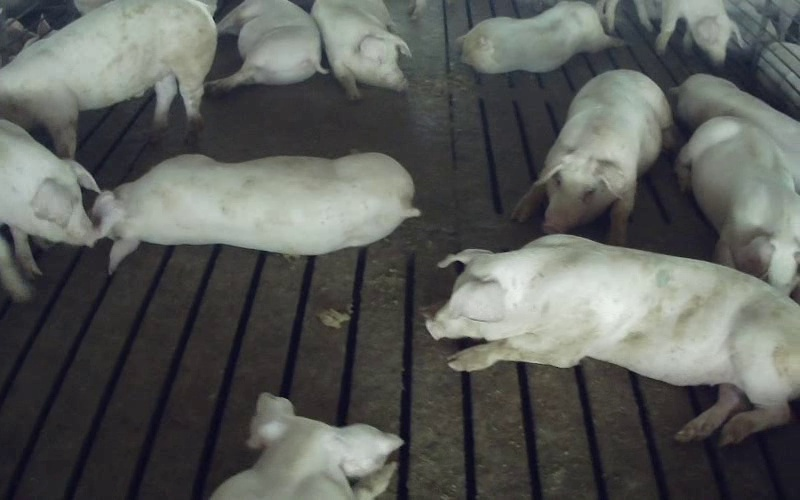pig: (427, 235, 799, 445), (93, 153, 419, 272), (512, 70, 672, 244), (676, 116, 799, 294), (210, 393, 402, 499), (672, 74, 799, 191), (459, 2, 623, 73), (206, 0, 326, 92), (311, 0, 410, 99)
